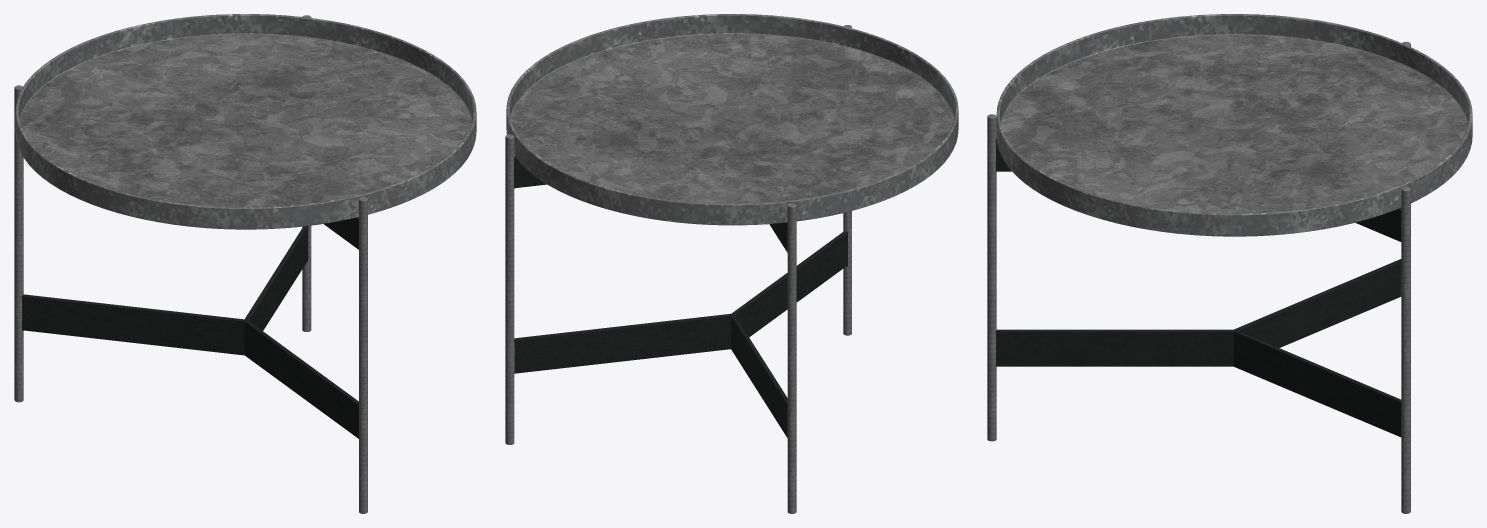
The model's file is table.fbx.
3 renders of one model, left to right at view 1: azimuth 30°, elevation 25°; view 2: azimuth 150°, elevation 25°; view 3: azimuth 270°, elevation 25°, orthographic. The views are drawn at different scales.
Visible parts, largest first — view 1: Table.003, Table, Table.002, Table.001; view 2: Table.003, Table, Table.002, Table.001; view 3: Table.003, Table.002, Table, Table.001.
Part boxes in pixels (x1,y1,x2,y2): Table.003: (19, 34, 472, 207); Table: (15, 14, 476, 229); Table.002: (22, 217, 358, 438); Table.001: (14, 15, 367, 513); Table.003: (510, 34, 954, 203); Table: (506, 14, 958, 225); Table.002: (514, 155, 847, 437); Table.001: (505, 25, 851, 513); Table.003: (1001, 35, 1468, 213); Table.002: (996, 138, 1401, 437); Table: (996, 14, 1472, 236); Table.001: (987, 41, 1410, 513).
Bounding box in the file's own units: 1926 × 1453 × 1964.
4 materials, 4 textured.
